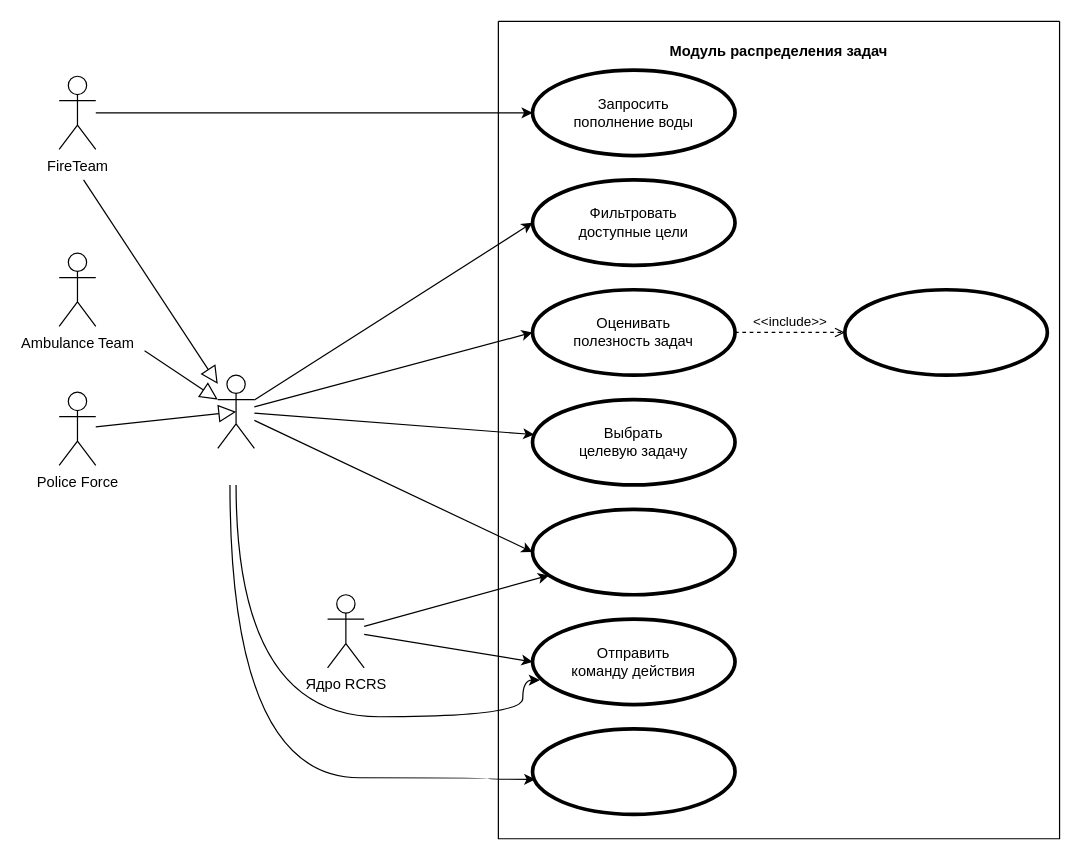
The diagram is 1081 pixels wide and 860 high, and some of its shapes have lost their labels. The centre of each missing label's shape, as x and y in pixels:
Агент-спасатель: the point at 235,411
Обновить модель мира: the point at 633,551
Построить маршрут к цели: the point at 633,771
Учесть состояние союзников: the point at 945,331
